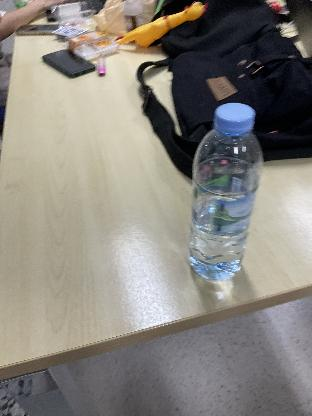Plastic Bottle: (182, 95, 260, 291)
